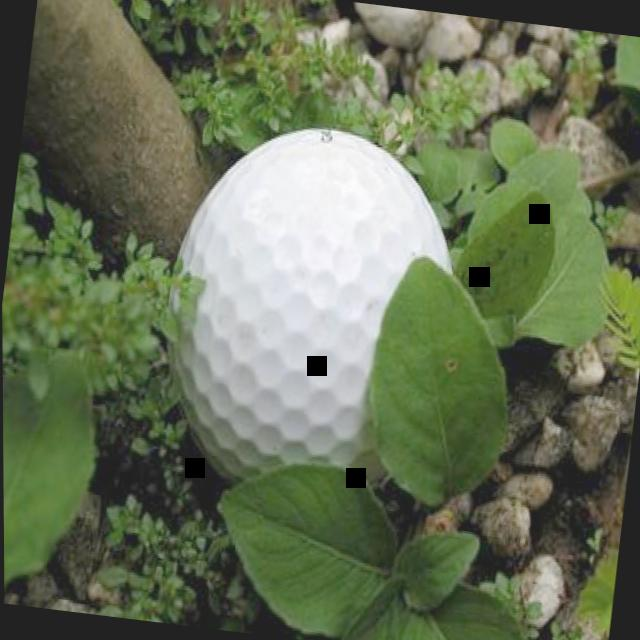golf ball: (139, 90, 477, 520)
